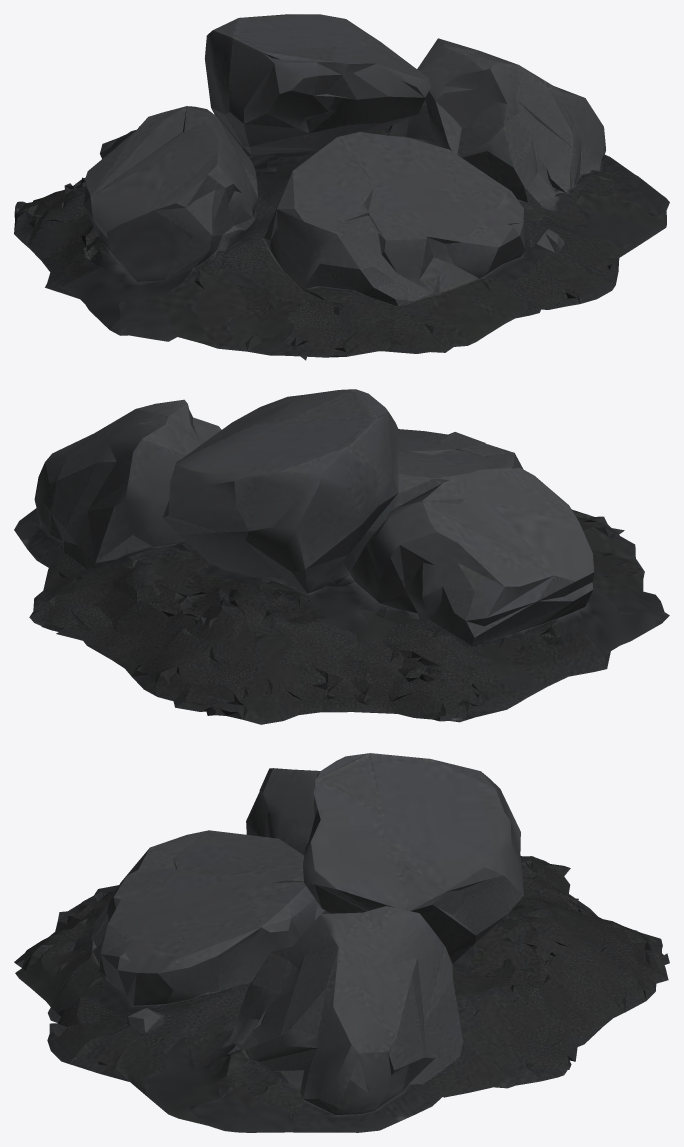
Rendered from rocher_3.glb.
3 renders of one model, top to bottom at view 1: azimuth 30°, elevation 25°; view 2: azimuth 150°, elevation 25°; view 3: azimuth 270°, elevation 25°, orthographic. The views are drawn at different scales.
Size of the model in its own units: 1.87 by 0.5897 by 1.76.
Materials: 1 (1 with a texture image).
